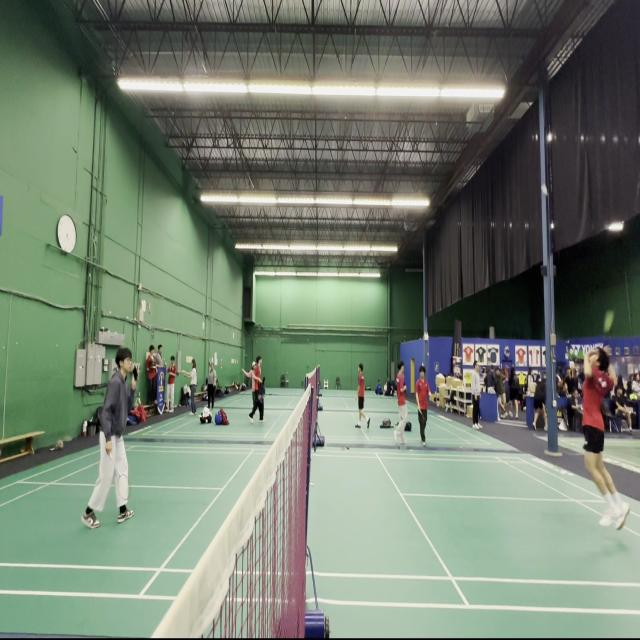shuttlecock: (541, 184, 549, 196)
